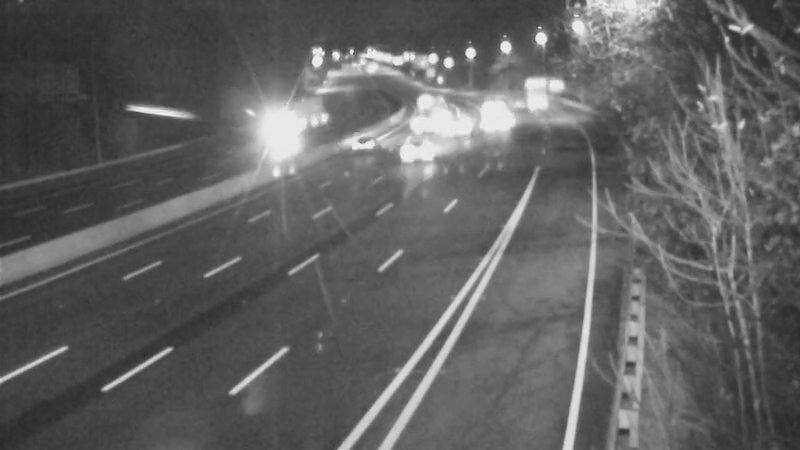vehicle: (512, 69, 562, 119), (466, 83, 516, 133), (399, 83, 449, 133), (472, 93, 522, 143), (436, 98, 486, 148), (391, 125, 441, 175), (340, 117, 390, 167), (258, 99, 308, 149)
